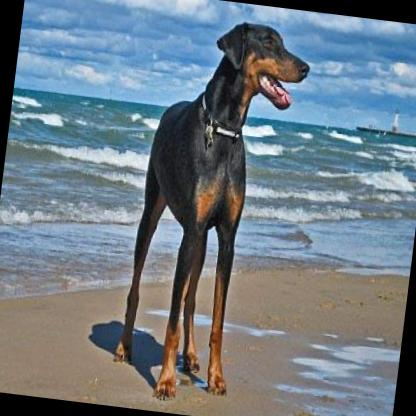Doberman: (110, 8, 312, 409)
